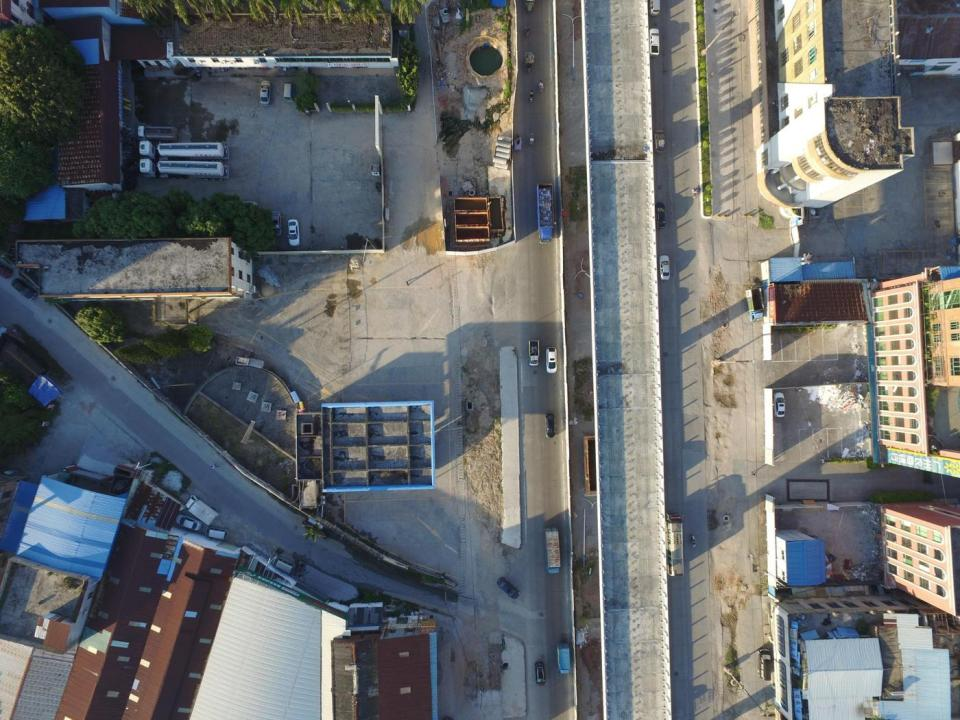bus: (664, 511, 686, 576)
car: (10, 277, 38, 301), (495, 578, 520, 600), (287, 218, 302, 246), (176, 514, 201, 530), (270, 209, 283, 237), (258, 79, 272, 105), (658, 254, 671, 281), (653, 202, 666, 228), (773, 391, 786, 417), (545, 346, 557, 374), (535, 661, 548, 686), (545, 412, 556, 439), (654, 128, 665, 154)
truck: (138, 157, 230, 180), (136, 140, 229, 161), (536, 183, 554, 245), (186, 494, 218, 526), (542, 526, 562, 575), (135, 125, 179, 141), (744, 287, 764, 322), (556, 643, 570, 676), (528, 338, 540, 366), (648, 28, 660, 56)
van: (759, 648, 772, 680), (272, 556, 294, 573), (282, 79, 295, 103), (204, 527, 228, 540), (649, 0, 660, 16)
